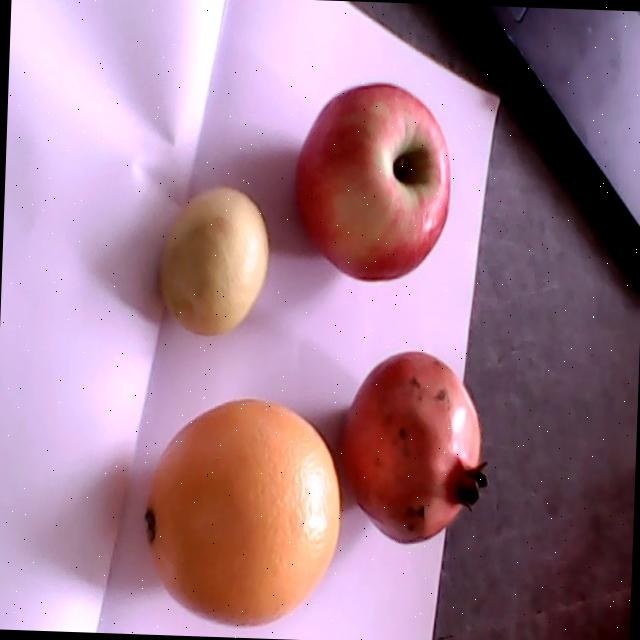apple: (292, 83, 450, 281)
lemon: (159, 183, 268, 336)
orange: (143, 399, 340, 627)
pomegranate: (344, 351, 488, 542)
